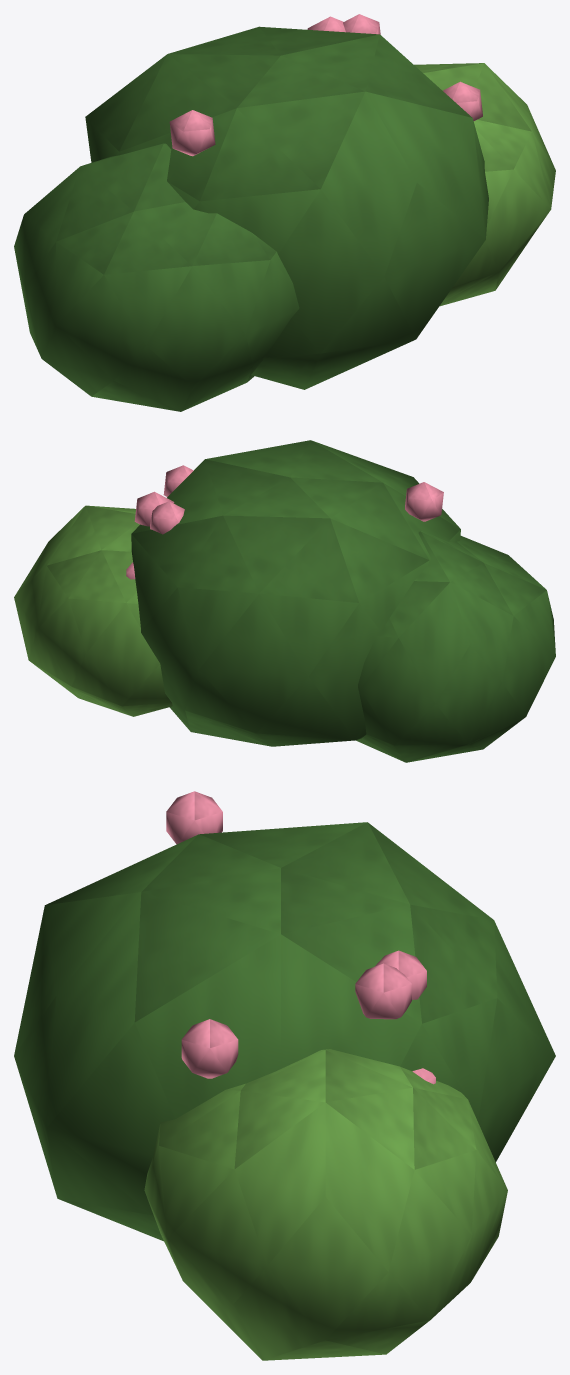
File: bush_flower_01.glb
3 renders of one model, top to bottom at view 1: azimuth 30°, elevation 25°; view 2: azimuth 150°, elevation 25°; view 3: azimuth 270°, elevation 25°, orthographic. The views are drawn at different scales.
Visible parts, largest first — view 1: bush_flower_01; view 2: bush_flower_01; view 3: bush_flower_01.
Boxes of the visible parts, bbox=[...] form: bush_flower_01: bbox=[14, 14, 555, 411]; bush_flower_01: bbox=[14, 440, 555, 762]; bush_flower_01: bbox=[14, 791, 555, 1360].
Size of the model in its own units: 1.83 by 0.9465 by 1.22.
1 material, 1 textured.
